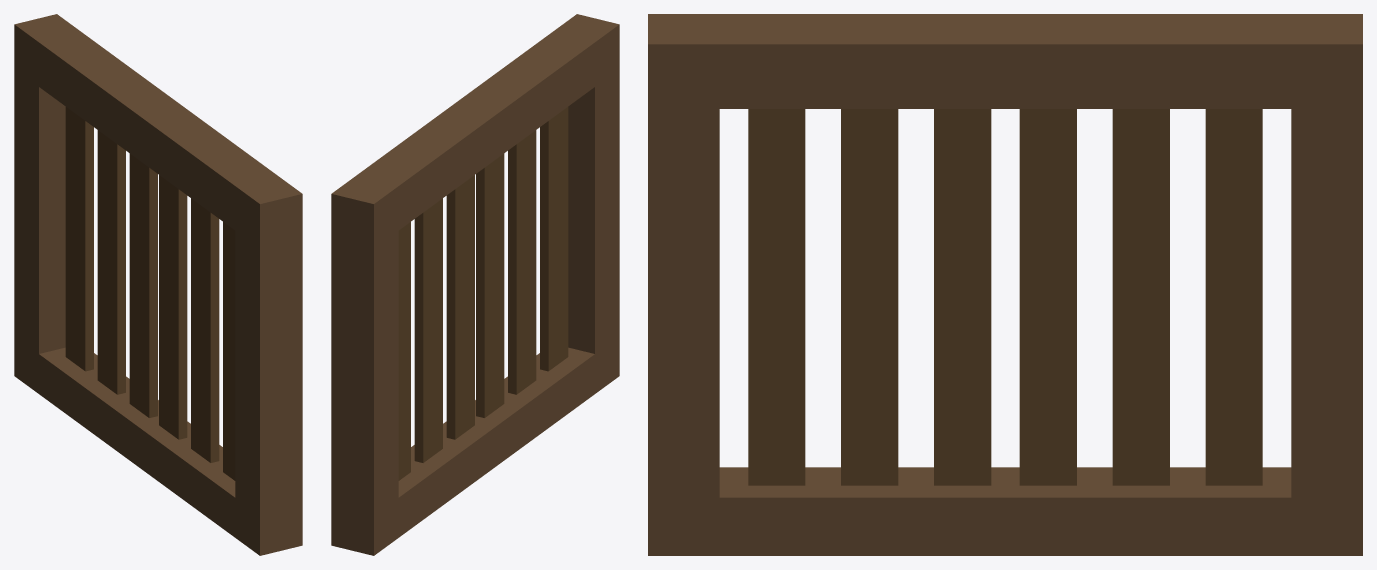
The model's file is Playground Barrier.fbx.
3 renders of one model, left to right at view 1: azimuth 30°, elevation 25°; view 2: azimuth 150°, elevation 25°; view 3: azimuth 270°, elevation 25°, orthographic. The views are drawn at different scales.
Visible parts, largest first — view 1: Playground Barrier; view 2: Playground Barrier; view 3: Playground Barrier.
Part boxes in pixels (x1=…): Playground Barrier: x1=14, y1=14, x2=302, y2=555; Playground Barrier: x1=331, y1=14, x2=619, y2=555; Playground Barrier: x1=648, y1=14, x2=1362, y2=555.
Size of the model in its own units: 100 by 790 by 1000.
